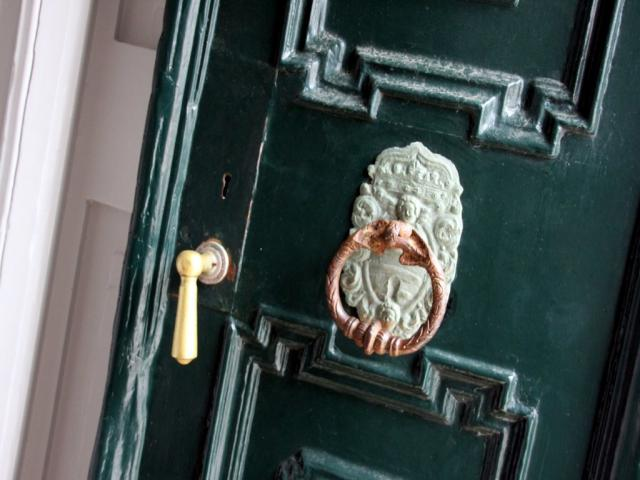Door-handle: (323, 138, 472, 360), (167, 237, 235, 367)
